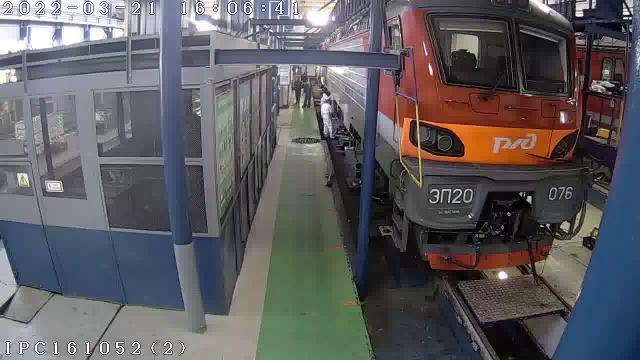person: (321, 101, 334, 138), (293, 77, 302, 104), (303, 82, 311, 107), (321, 87, 330, 103), (302, 70, 308, 82)
train: (376, 0, 587, 269)
